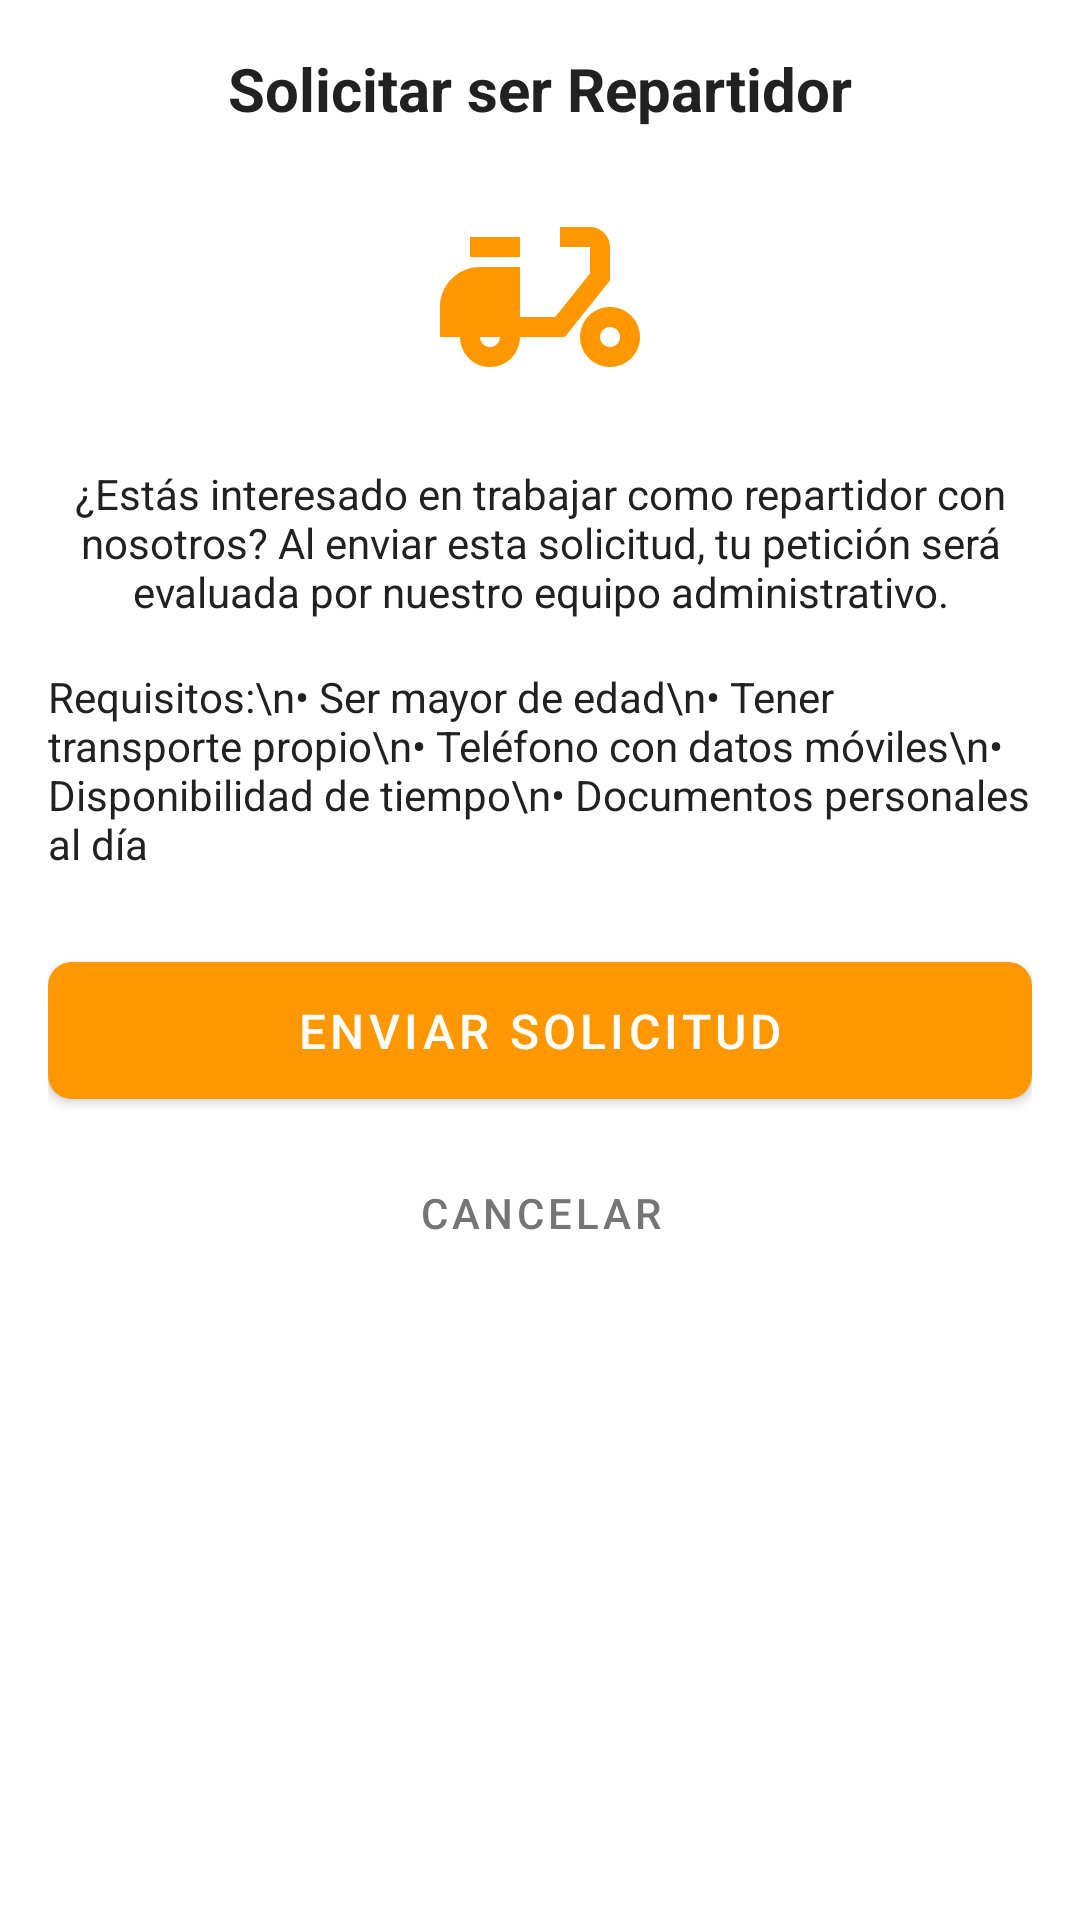

Icon bounding boxes for this 1080 x 1920 phone screenshot, format (x1, y1, x2, y2):
delivery: (440, 227, 640, 367)
